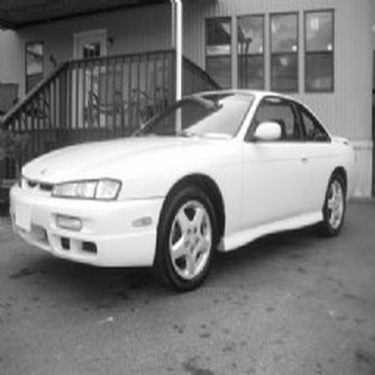car: (1, 86, 360, 296)
